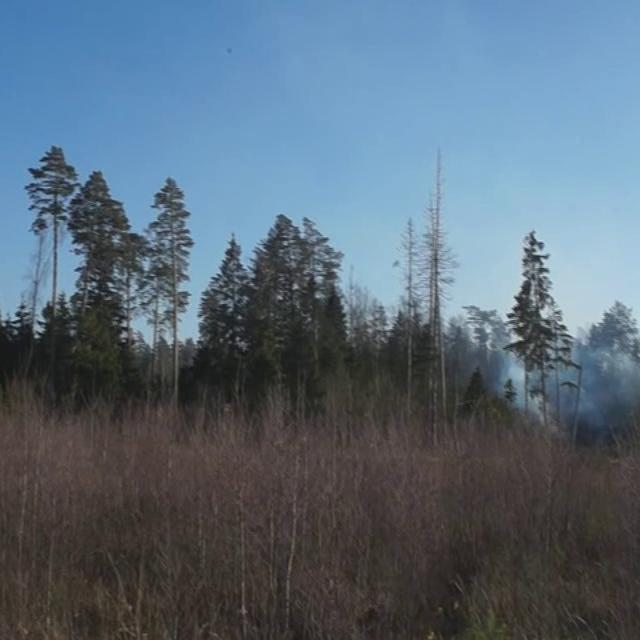Smoke: (487, 305, 639, 454)
